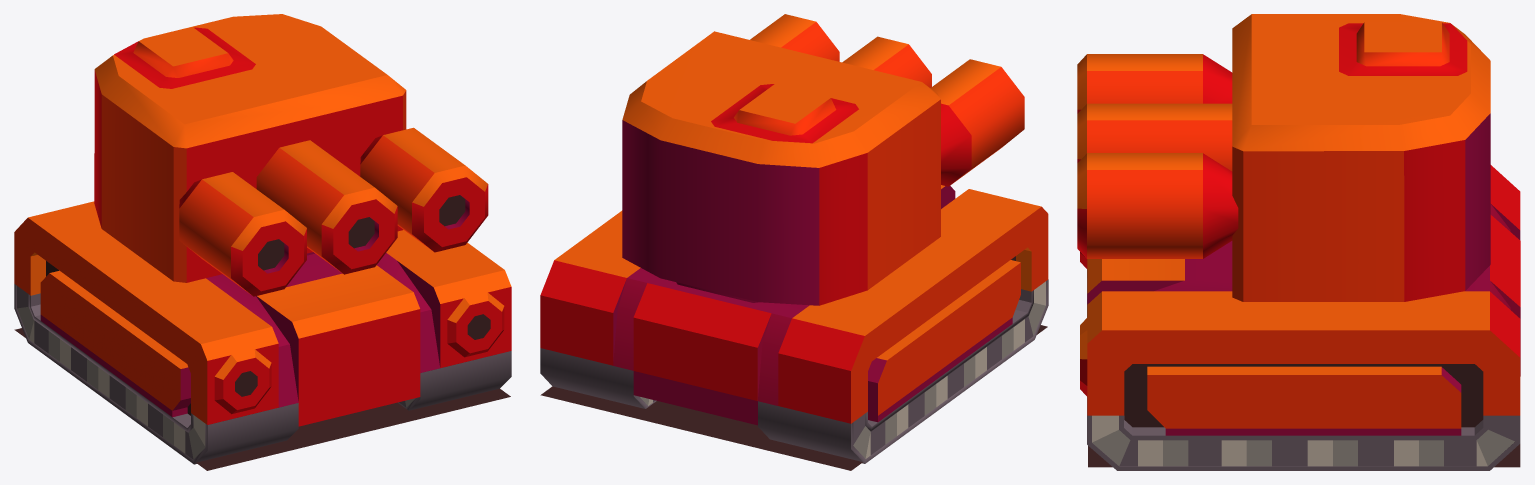
File: MegaTankMesh.OrangeStar.glb
3 views of the same model, side by side, from view 1: azimuth 30°, elevation 25°; view 2: azimuth 150°, elevation 25°; view 3: azimuth 270°, elevation 25° (orthographic). The views are drawn at different scales.
Visible parts, largest first — view 1: MegaTankMesh.OrangeStar; view 2: MegaTankMesh.OrangeStar; view 3: MegaTankMesh.OrangeStar.
Part boxes in pixels (left/top/right/bottom): MegaTankMesh.OrangeStar: left=14, top=14, right=511, bottom=470; MegaTankMesh.OrangeStar: left=540, top=14, right=1048, bottom=470; MegaTankMesh.OrangeStar: left=1077, top=14, right=1520, bottom=470.
Bounding box in the file's own units: 2 × 1.86 × 2.25.
Materials: 1 (1 with a texture image).
